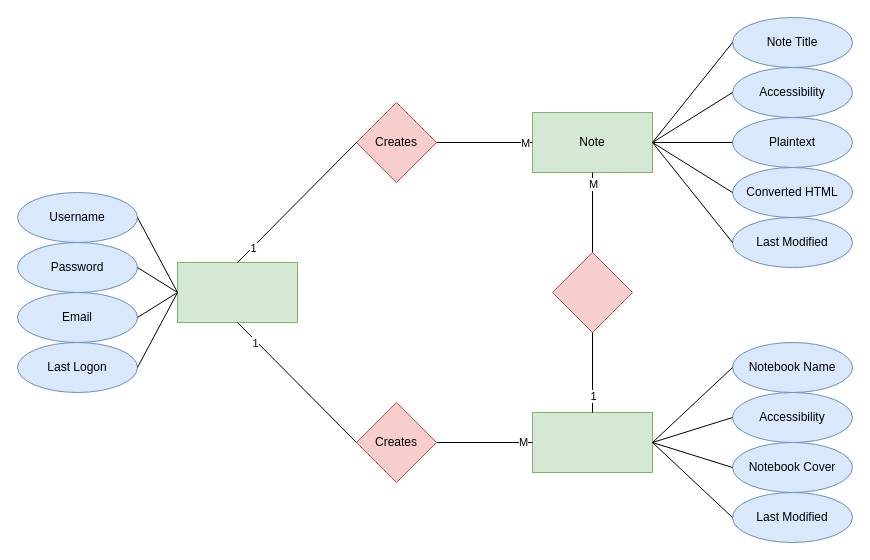
Some shapes in this 870 by 560 pixel diagram are drawn without their labels. Each missing label, with the centre of its shape:
Contains: the point at 592,292
Notebook: the point at 592,442
User: the point at 237,292
